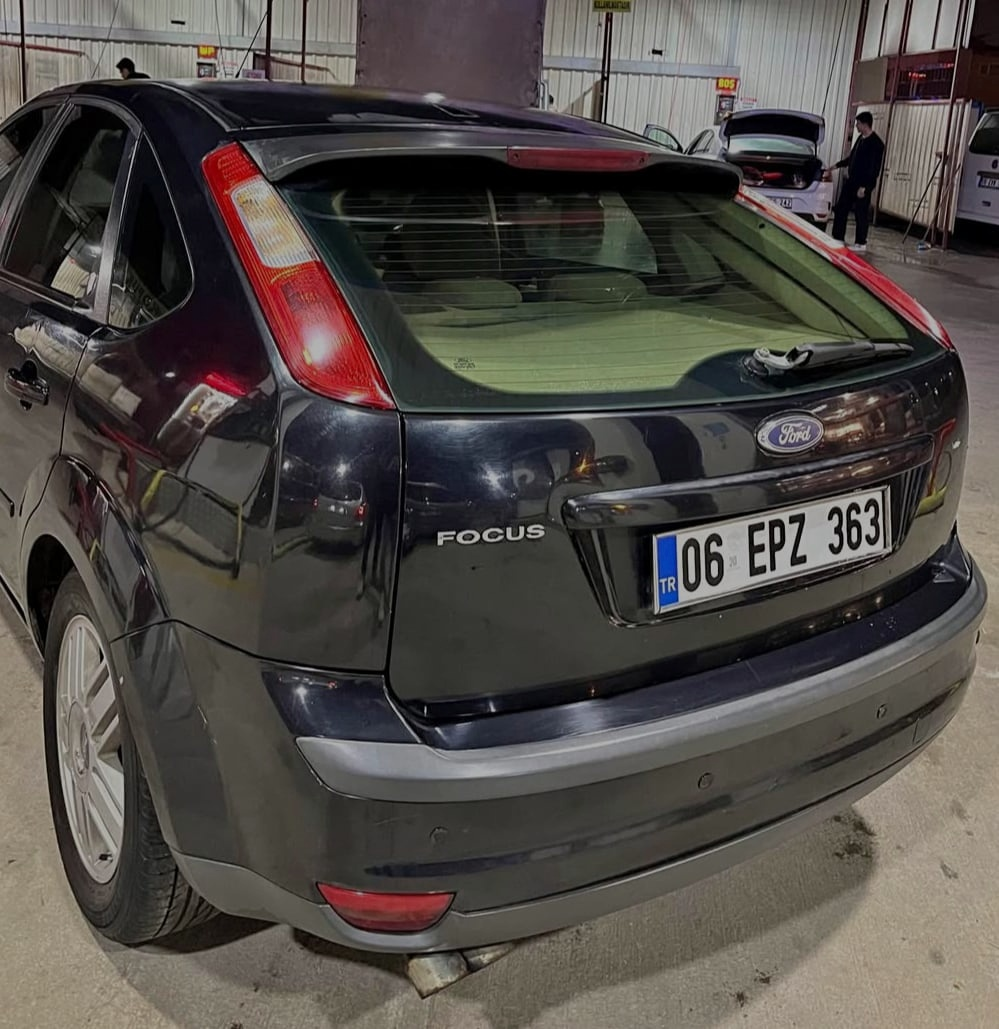plaka: (674, 493, 895, 607)
